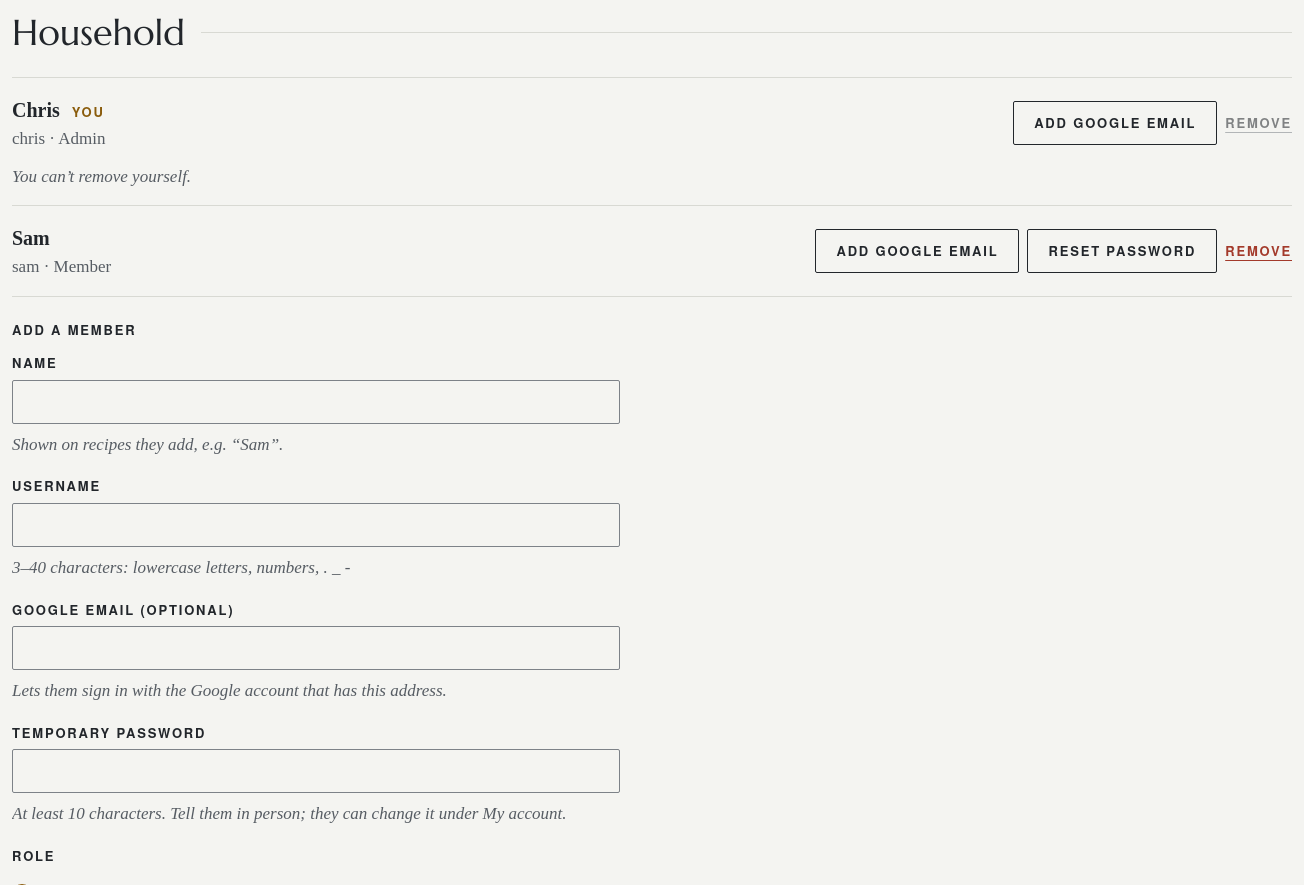
Test: HouseholdSection › keeps the person when the confirmation is cancelled
Click the button with aria-label "Remove Sam": (1259, 251) top-left (1225, 229), bottom-right (1292, 273)
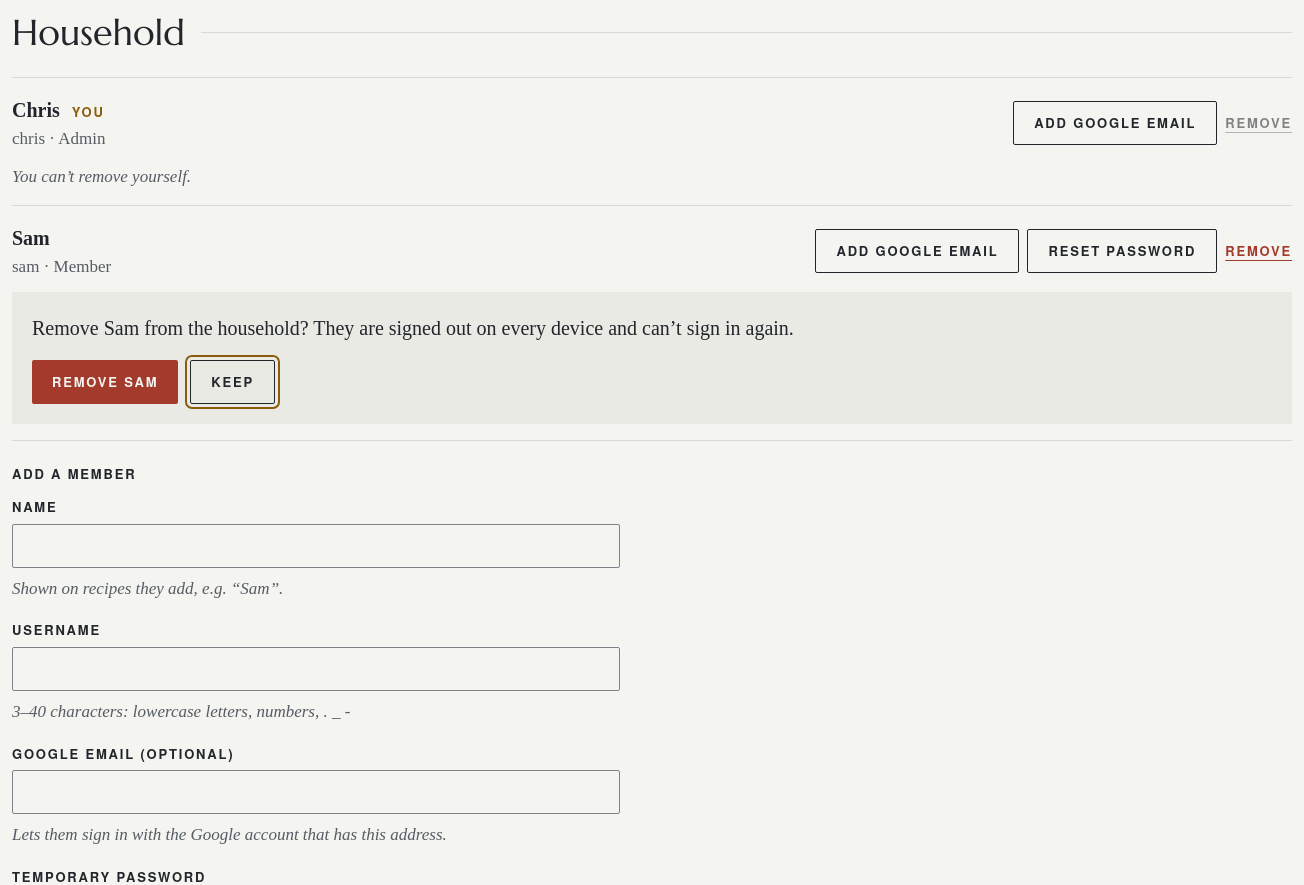
Click the button "Keep": (233, 382) top-left (190, 360), bottom-right (275, 404)
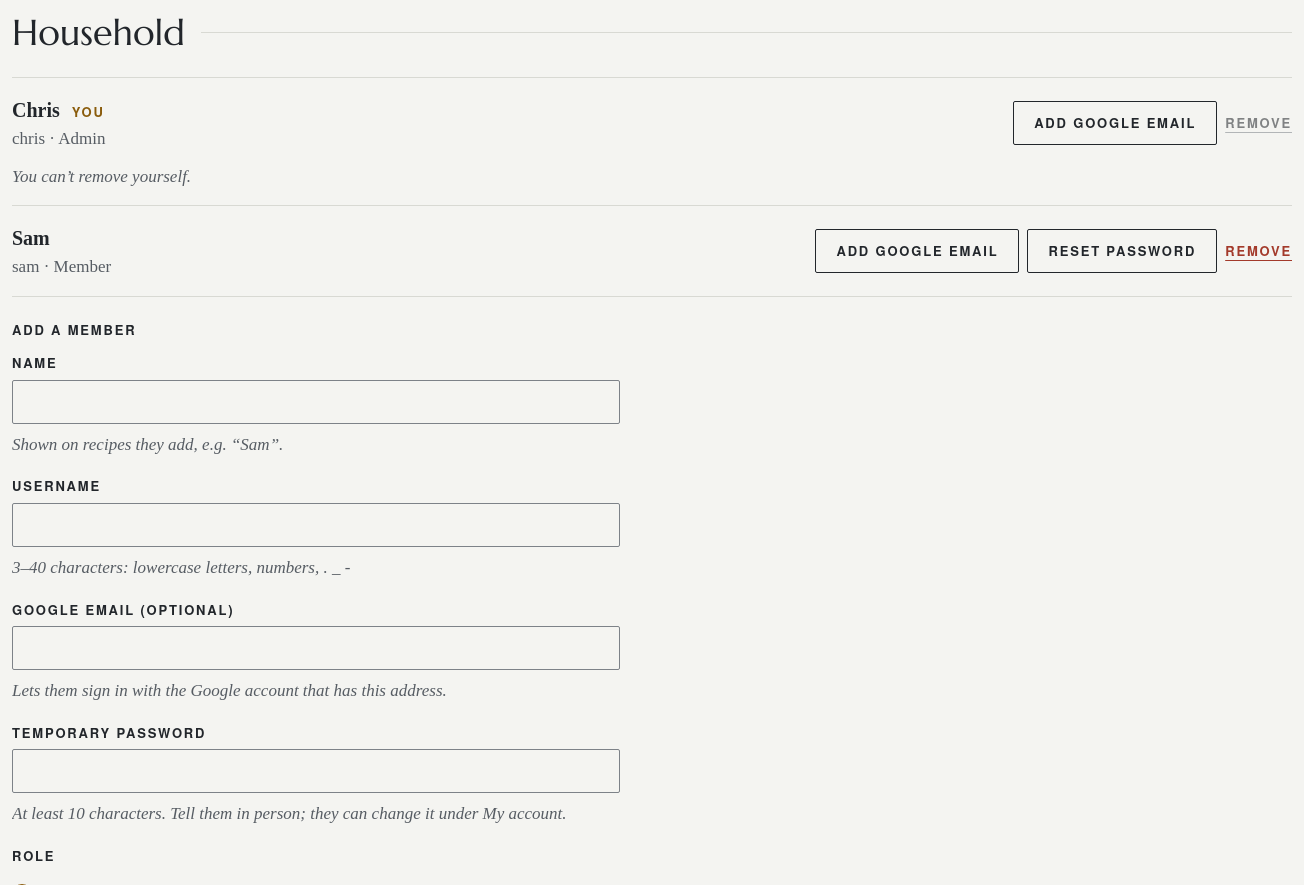
Result: the element "Confirm" is gone
